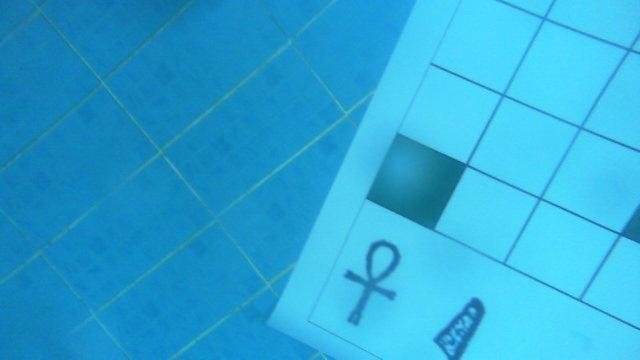Ankh: (344, 237, 405, 322)
Reed: (431, 296, 486, 360)
